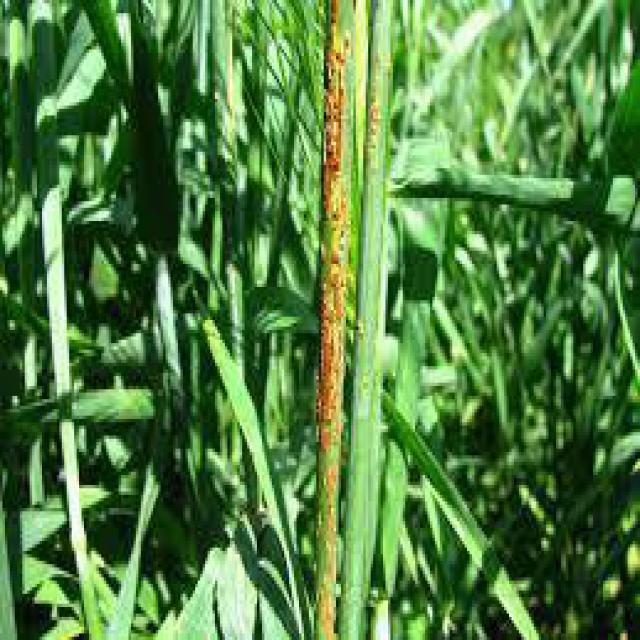Stem_Rust: (316, 11, 357, 640)
